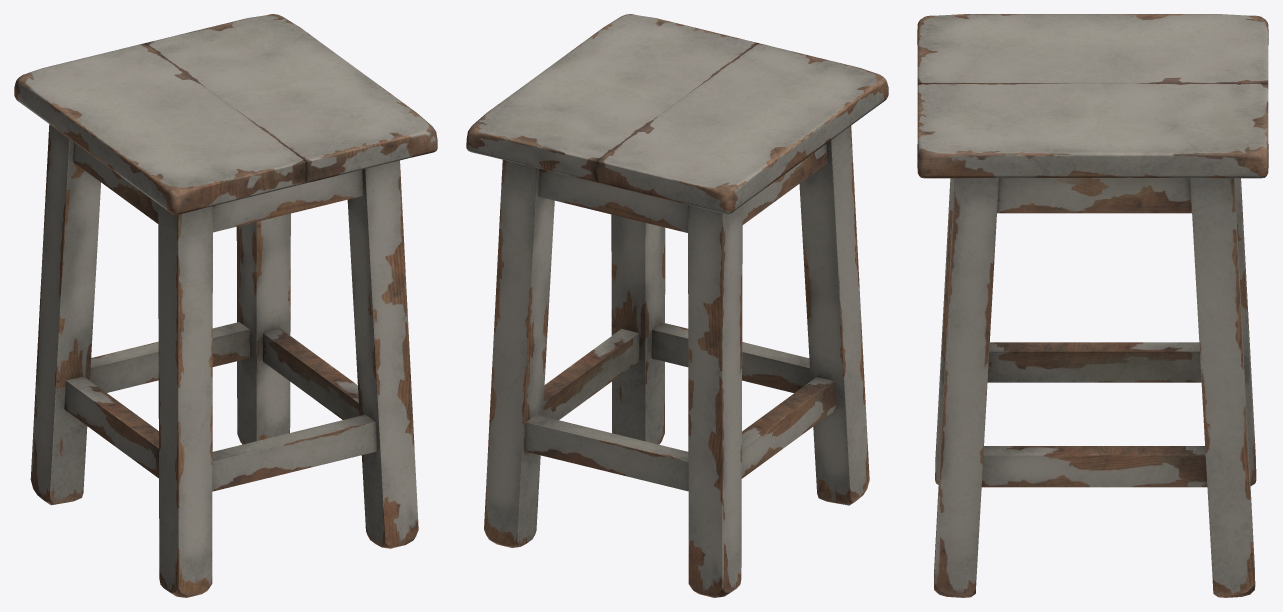
The model's file is painted_wooden_stool_1k.gltf.
3 views of the same model, side by side, from view 1: azimuth 30°, elevation 25°; view 2: azimuth 150°, elevation 25°; view 3: azimuth 270°, elevation 25° (orthographic). The views are drawn at different scales.
Visible parts, largest first — view 1: painted_wooden_stool; view 2: painted_wooden_stool; view 3: painted_wooden_stool.
Boxes of the visible parts, <box> form: painted_wooden_stool: <box>14,14,437,597</box>; painted_wooden_stool: <box>466,14,888,597</box>; painted_wooden_stool: <box>917,14,1268,597</box>.
Size of the model in its own units: 0.3848 by 0.5789 by 0.4061.
Materials: 1 (1 with a texture image).
